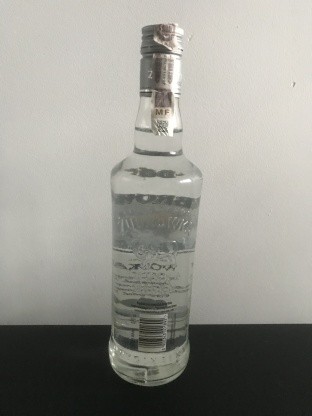nakretka: (138, 22, 185, 97)
